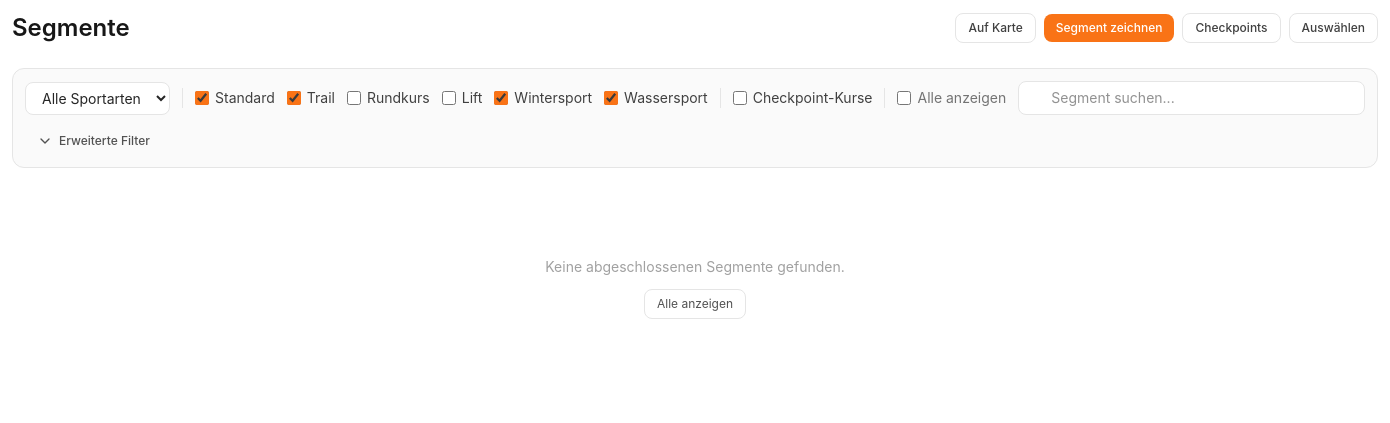
Test: SegmentsPage filters › offers to show all segments when completed-only filters out every result
Expected: the text "Keine abgeschlossenen Segmente gefunden." is shown, top-left (545, 257), bottom-right (845, 277)
Click the button "Alle anzeigen" at (695, 304), box top-left (644, 289), bottom-right (746, 319)
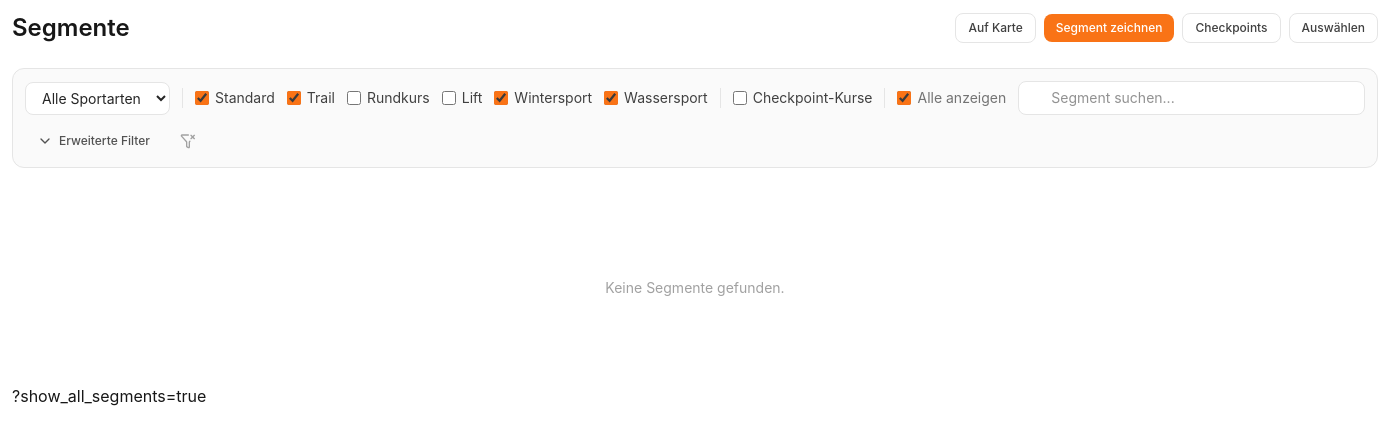
Expected: the text with test id "location-search" shows "show_all_segments=true", top-left (12, 386), bottom-right (206, 406)
